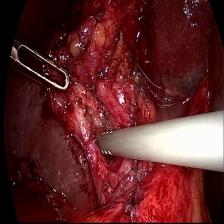Grasper: (12, 40, 72, 96)
Irrigator: (95, 121, 125, 165)
